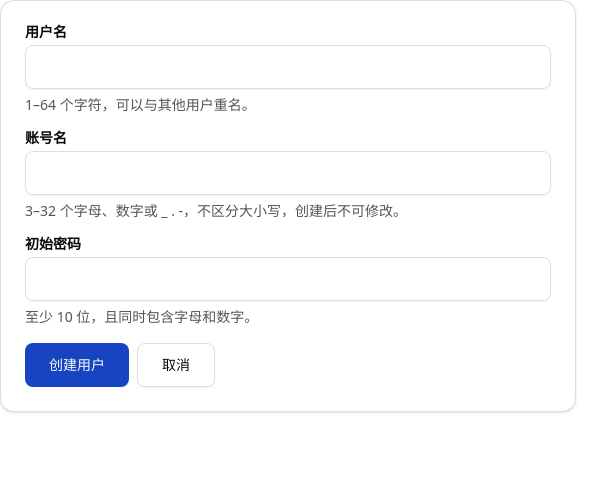
it: UserForm：错误与回显 › 动作没有返回幂等键时沿用渲染时的键
The image size is (593, 490).
Click the button "创建用户".
click(77, 365)  # box [25,343,129,387]
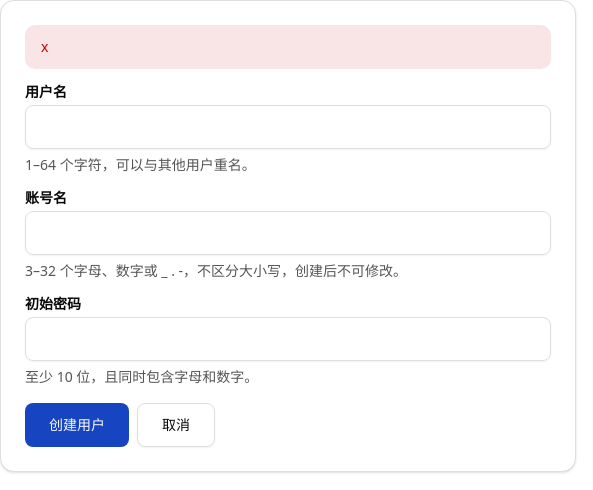
Result: the message "x" is shown at [25,25,551,69]
